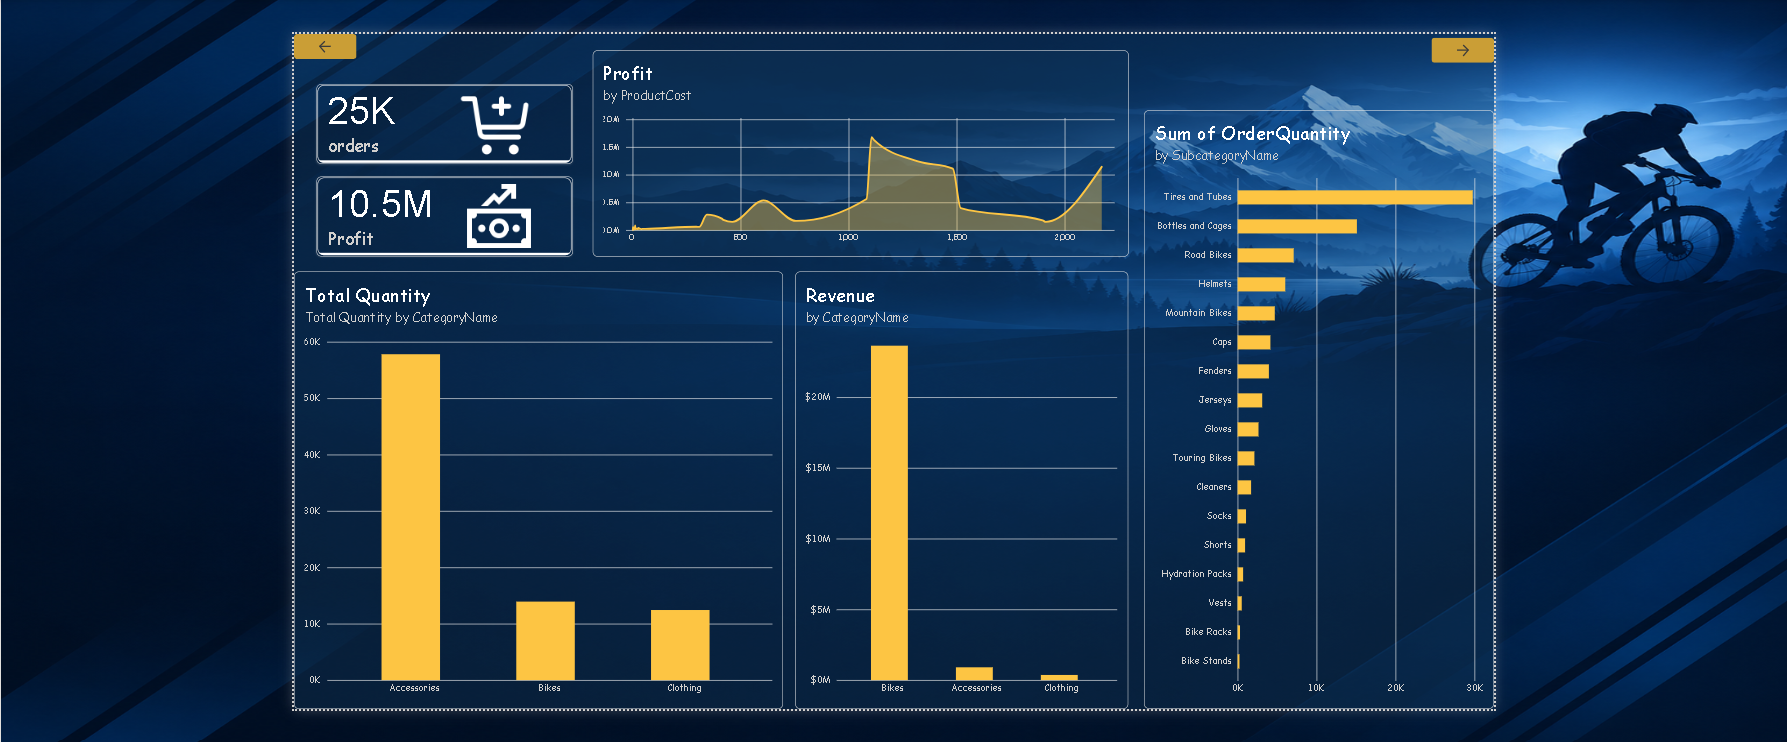

What the dashboard file says about the page in this screenshot:
{"tool":"powerbi","page":{"name":"Product Detail","canvas":[1920,1080],"ordinal":2},"visuals":[{"type":"cardVisual","fields":{"Data":["Calendar Lookup.total orders"]},"box":[35,80,410,128],"z":0},{"type":"columnChart","title":"Total Quantity","fields":{"Category":["Product Categories Lookup.CategoryName"],"Y":["Measure Table.total quantity"]},"box":[0,380,782.5,700],"z":1000},{"type":"clusteredColumnChart","fields":{"Category":["Product Categories Lookup.CategoryName"],"Y":["Measure Table.Revenue"]},"box":[802.5,380,532.5,700],"z":2000},{"type":"barChart","fields":{"Category":["Product Subcategories Lookup.SubcategoryName"],"Y":["Sum(sales data1.OrderQuantity)"]},"box":[1360,122.5,560,957.5],"z":3000},{"type":"stackedAreaChart","fields":{"Category":["Product Lookup.ProductCost"],"Y":["Measure Table.Profit"]},"box":[477.5,25,857.5,330],"z":4000},{"type":"cardVisual","fields":{"Data":["Measure Table.Profit"]},"box":[35,227.5,410,128],"z":5000},{"type":"actionButton","box":[1820,5,100,40],"z":6000},{"type":"actionButton","box":[0,0,100,40],"z":7000},{"type":"image","box":[210,80,236,126],"z":8000},{"type":"image","box":[210,228,236,126],"z":9000}]}

Visuals, with their boxes on the page's 1920x1080 design canvas (x1, y1, x2, y2). These are canvas units, not pixel positions in the 1787x742 screenshot, which may show the page scaled, cropped or inside an application window:
cardVisual - Calendar Lookup.total orders: Rect(35, 80, 445, 208)
"Total Quantity" columnChart: Rect(0, 380, 782, 1080)
clusteredColumnChart - Product Categories Lookup.CategoryName x Measure Table.Revenue: Rect(802, 380, 1335, 1080)
barChart - Product Subcategories Lookup.SubcategoryName x Sum(sales data1.OrderQuantity): Rect(1360, 122, 1920, 1080)
stackedAreaChart - Product Lookup.ProductCost x Measure Table.Profit: Rect(478, 25, 1335, 355)
cardVisual - Measure Table.Profit: Rect(35, 228, 445, 356)
actionButton: Rect(1820, 5, 1920, 45)
actionButton: Rect(0, 0, 100, 40)
image: Rect(210, 80, 446, 206)
image: Rect(210, 228, 446, 354)
